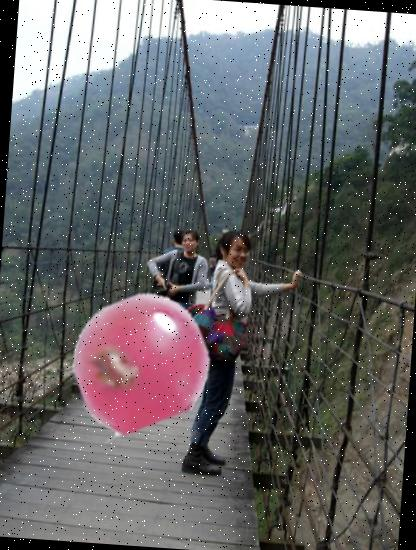Redcurrant: (65, 287, 214, 435)
